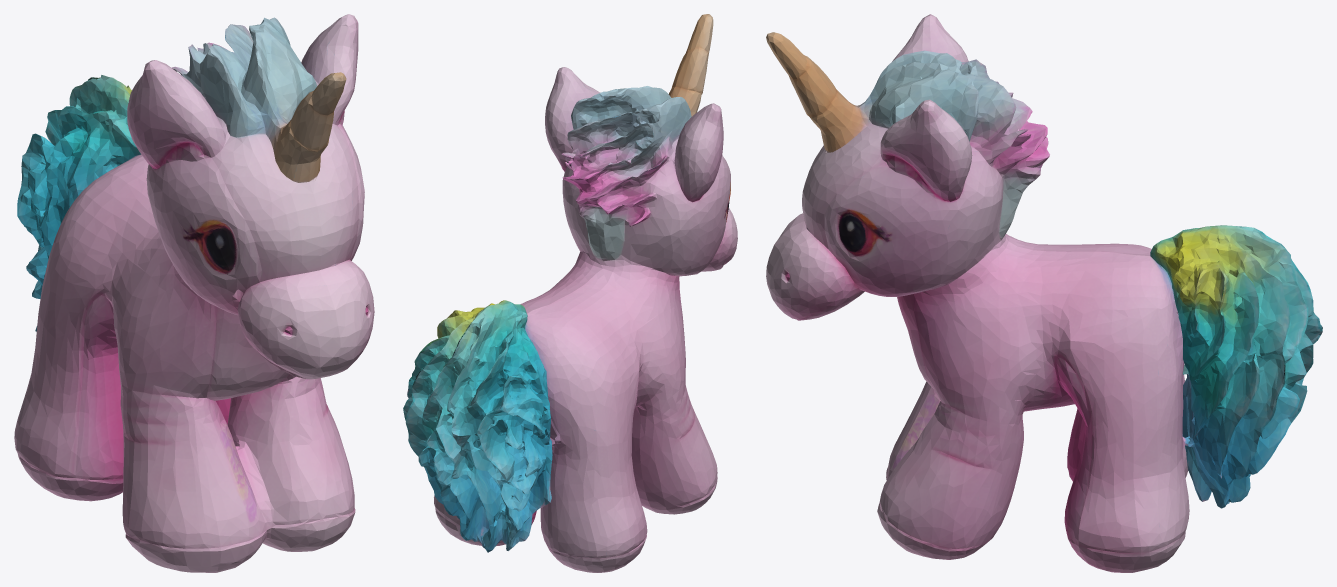
The model's file is pony.glb.
3 renders of one model, left to right at view 1: azimuth 30°, elevation 25°; view 2: azimuth 150°, elevation 25°; view 3: azimuth 270°, elevation 25°, orthographic. The views are drawn at different scales.
Visible parts, largest first — view 1: world; view 2: world; view 3: world.
Part boxes in pixels (box(x1,y1,x2,y2)): world: box(14, 14, 374, 572); world: box(403, 14, 737, 572); world: box(766, 14, 1322, 572).
Bounding box in the file's own units: 0.477 × 0.98 × 0.9979.
1 material, 1 textured.
